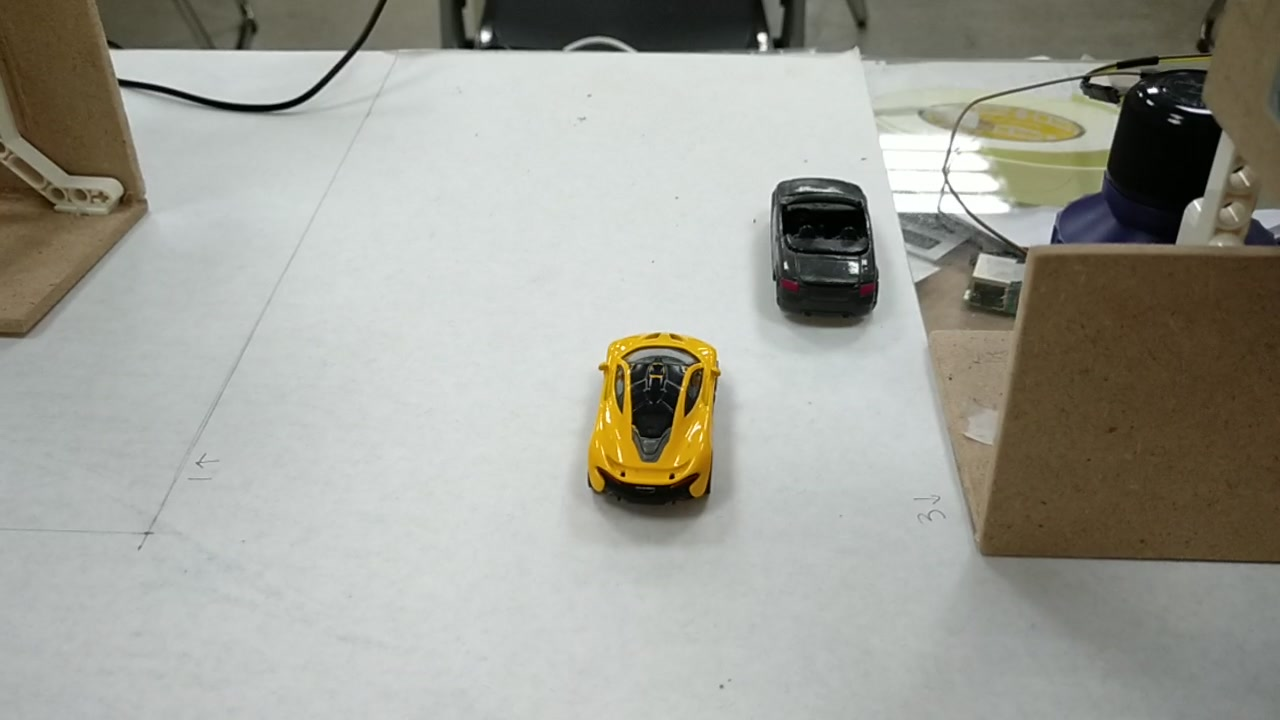car: (587, 340, 714, 490), (775, 179, 875, 305)
